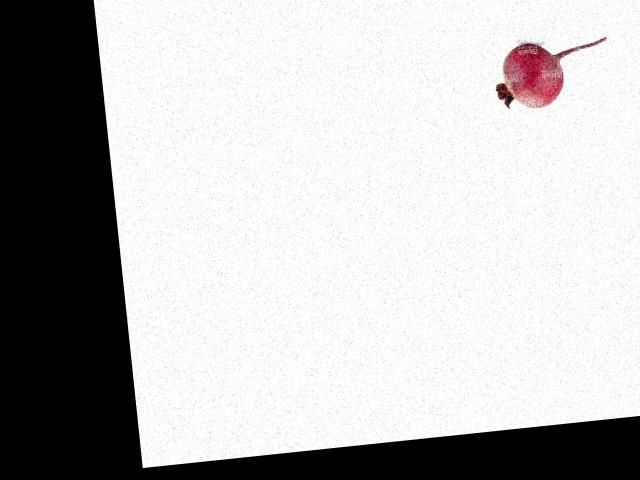beet: (491, 35, 611, 111)
